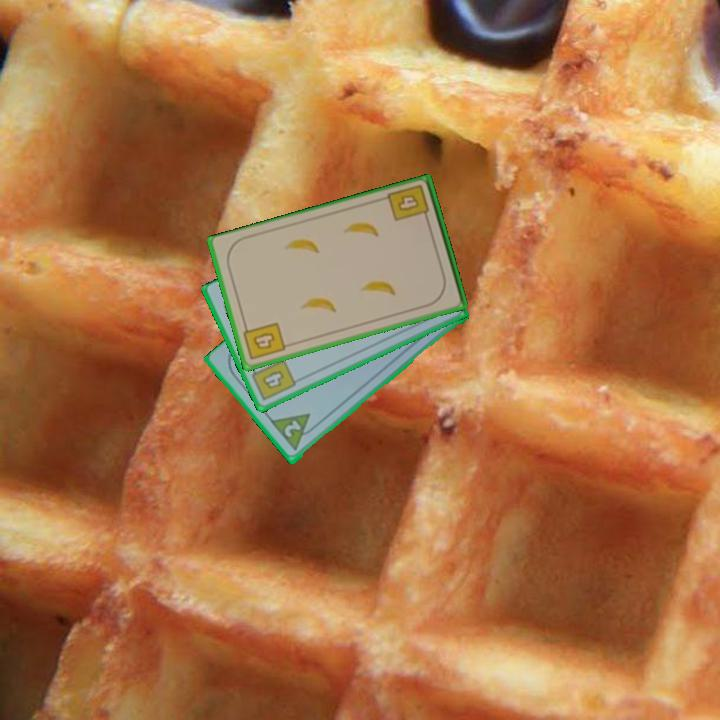2p: (280, 417, 304, 441)
4b: (247, 356, 299, 404), (384, 181, 432, 226), (240, 319, 288, 363)
